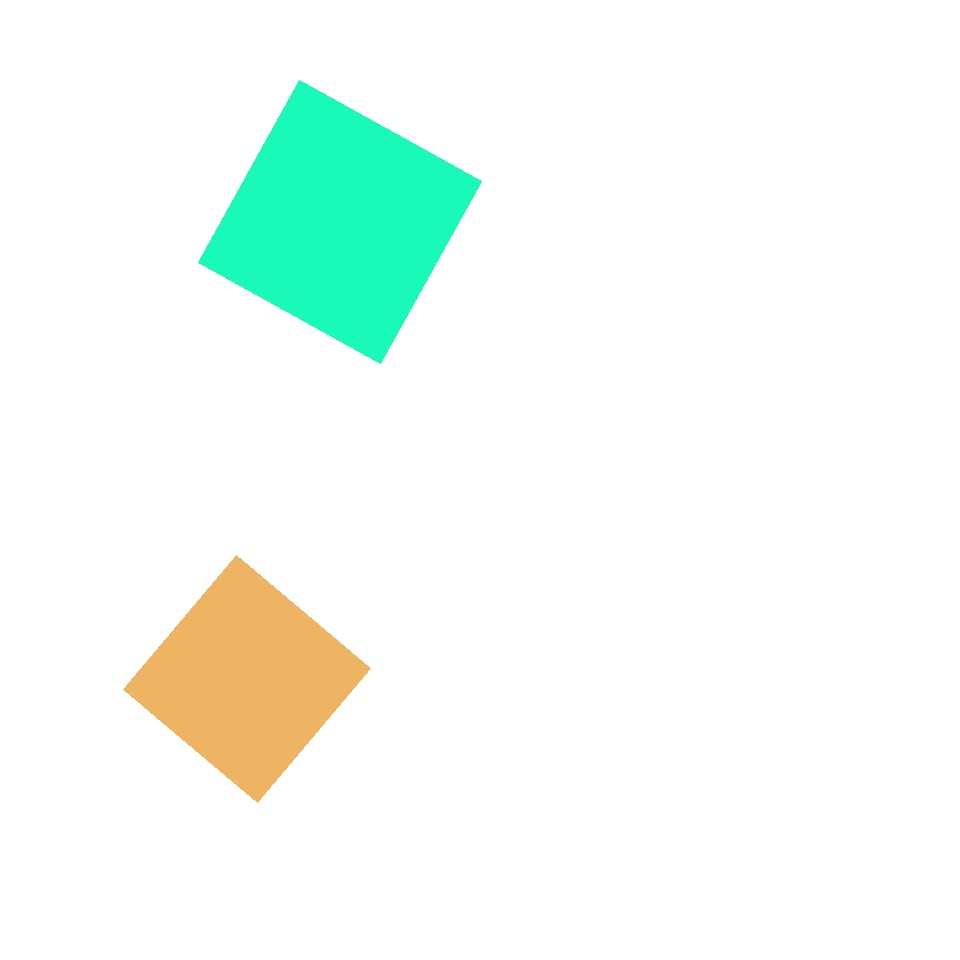circle: (304, 362, 594, 680)
square: (158, 580, 448, 870), (198, 80, 482, 364), (610, 600, 890, 880), (123, 556, 370, 802)
triangle: (282, 548, 552, 820), (391, 569, 584, 762), (442, 712, 594, 864)
